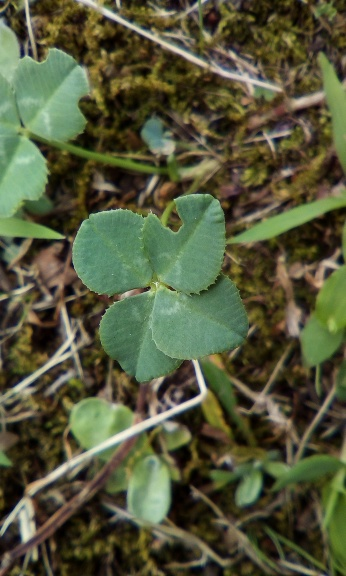4leaf: (72, 194, 250, 382)
